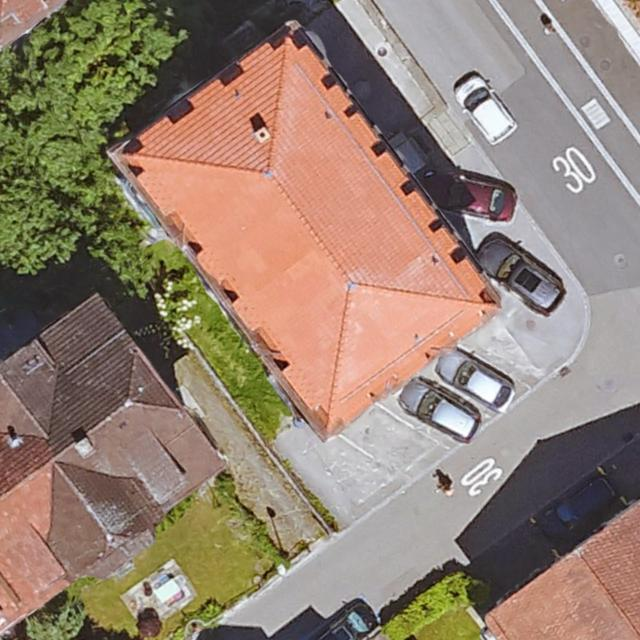tree: (0, 0, 189, 265)
